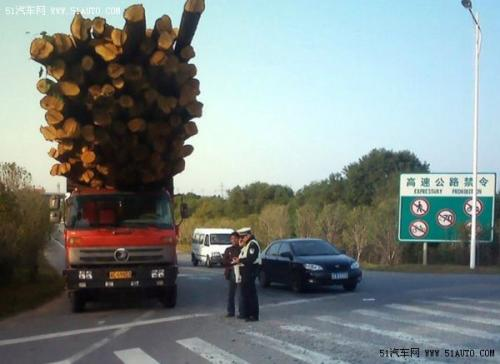chaozhai: (30, 1, 206, 320)
